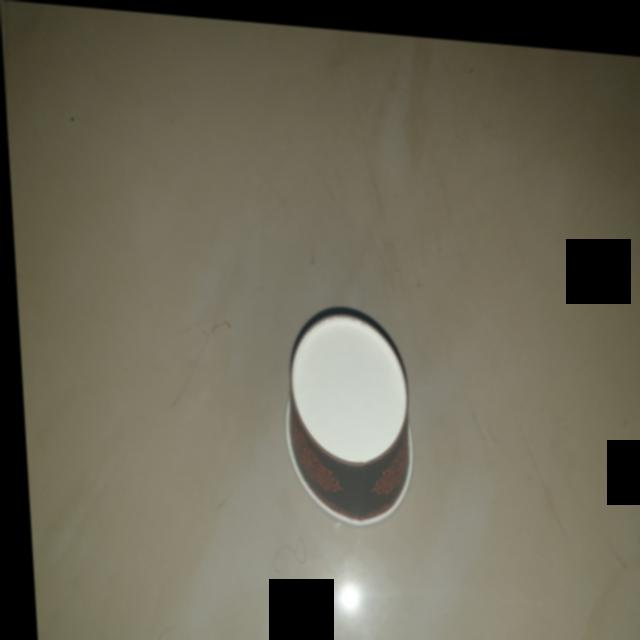cups: (262, 286, 419, 526)
